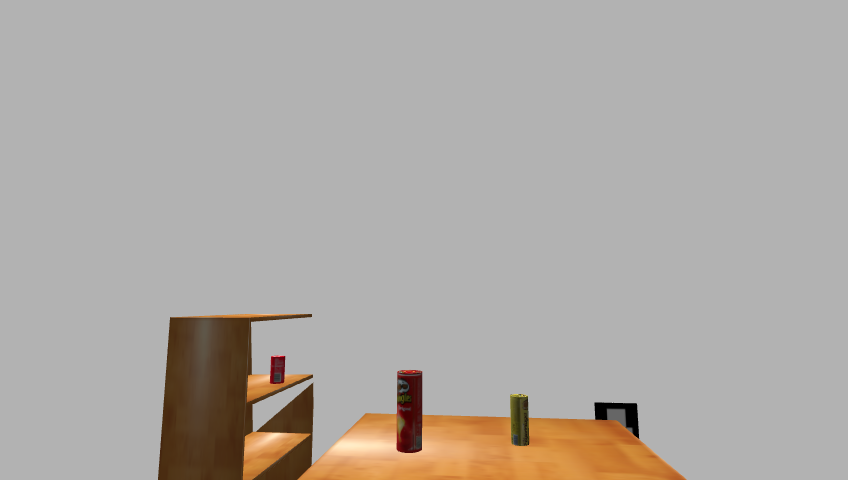aruco marker: (590, 400, 644, 443)
biscuits pack: (508, 394, 530, 447)
bookshelf: (153, 311, 318, 480)
coke can: (268, 355, 287, 385)
dinner table: (282, 413, 707, 480)
pringles can: (395, 370, 424, 455)
